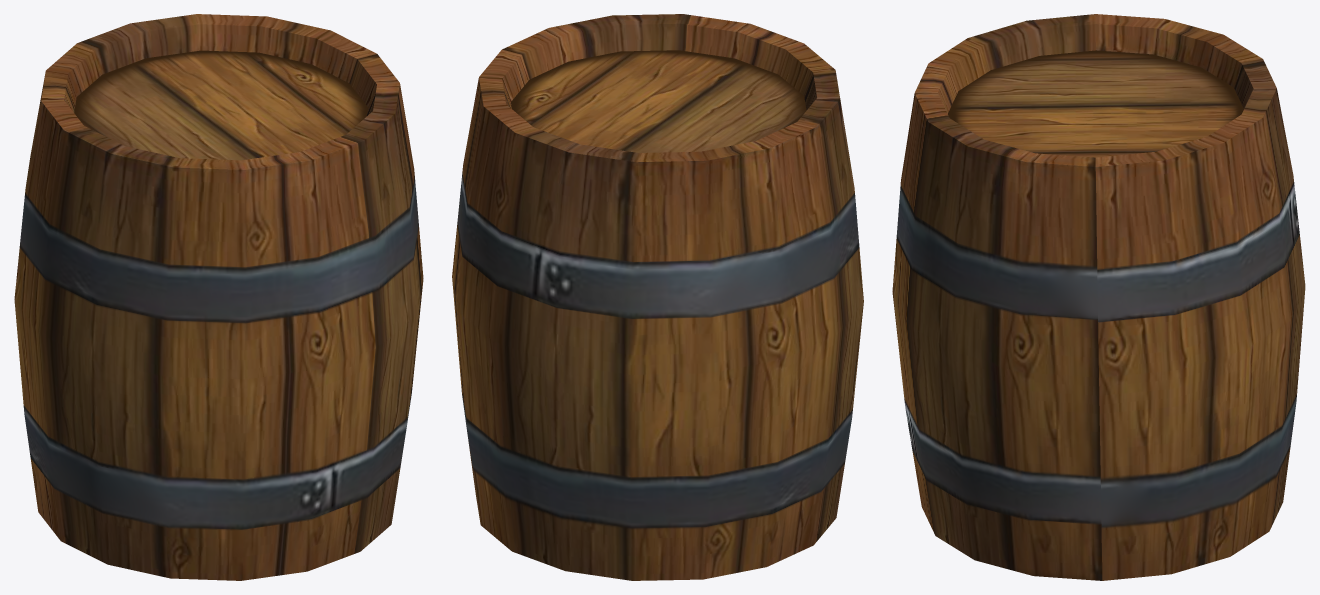
The model's file is Barril2.FBX.
The picture shows the model from 3 angles, left to right: view 1: azimuth 30°, elevation 25°; view 2: azimuth 150°, elevation 25°; view 3: azimuth 270°, elevation 25°; orthographic projection.
Parts seen in each view (by area): view 1: Barril3; view 2: Barril3; view 3: Barril3.
Boxes of the visible parts, x1,y1,x2,y2 form: Barril3: (14, 14, 423, 580); Barril3: (452, 14, 863, 580); Barril3: (892, 14, 1305, 580).
Size of the model in its own units: 1.14 by 1.27 by 1.14.
